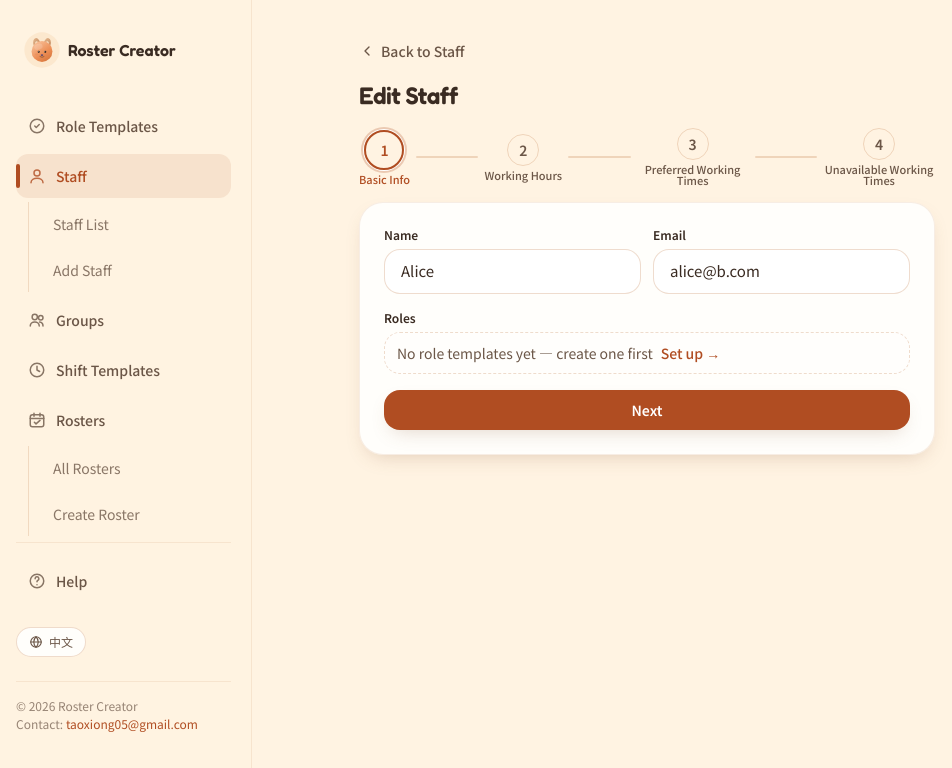
Test: StaffEditPage › blocks jumping away from Working Hours when minHours/maxHours are non-positive
The width and height of the screenshot is (952, 768).
Check: the field showing "Alice" is shown, box [384,249,641,294]
What coordinates should you click on to do the following:
click the button named "Working Hours"
I would click on:
 (523, 150)
Its box is [507,134,539,166].
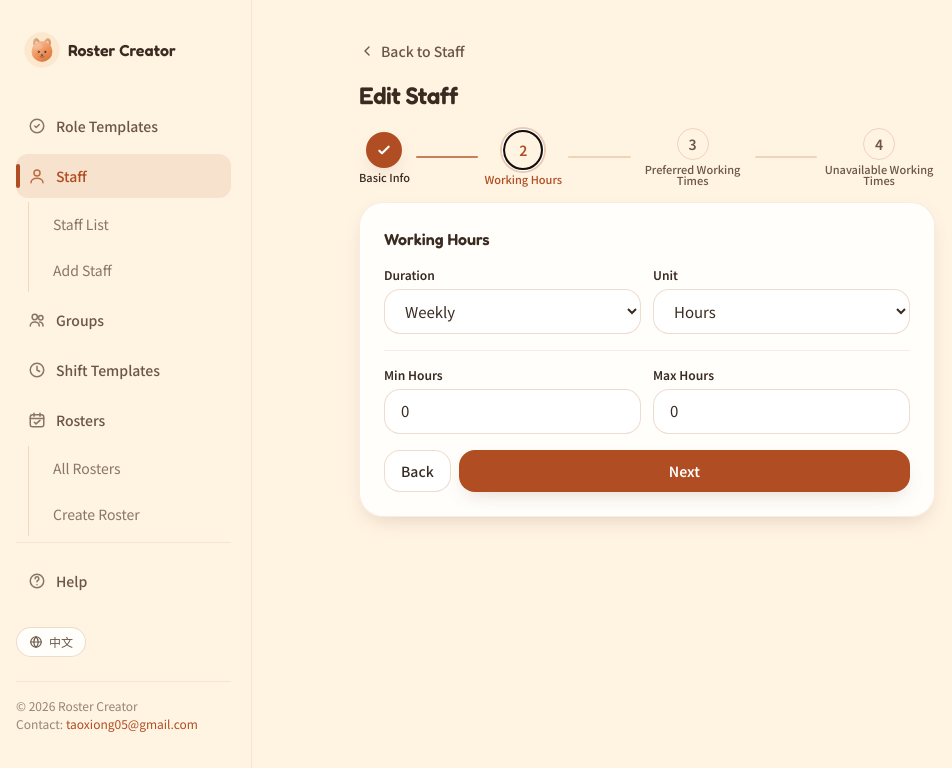
Check: the heading "Working Hours" is shown, box [384,229,490,249]
What coordinates should you click on to do the following:
click the button named "Preferred Working Times"
I would click on:
 (693, 144)
Its box is [677,128,709,160].
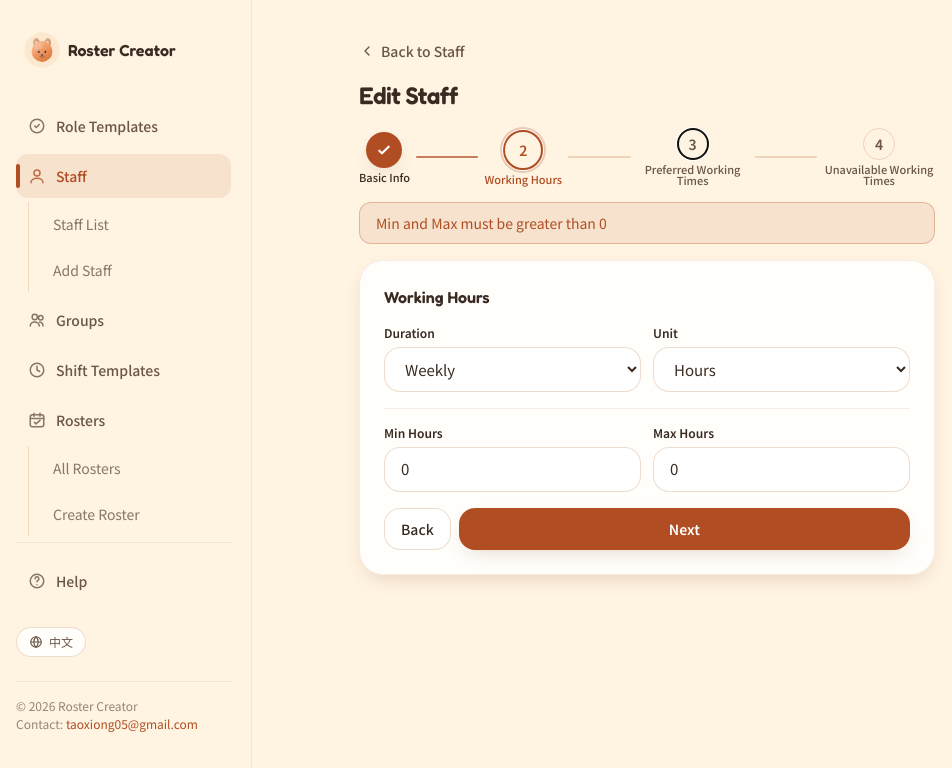
Check: the heading "Working Hours" is shown, box [384,287,490,307]
Check: the message reads "Min and Max must be greater than 0", box [376,213,607,233]
